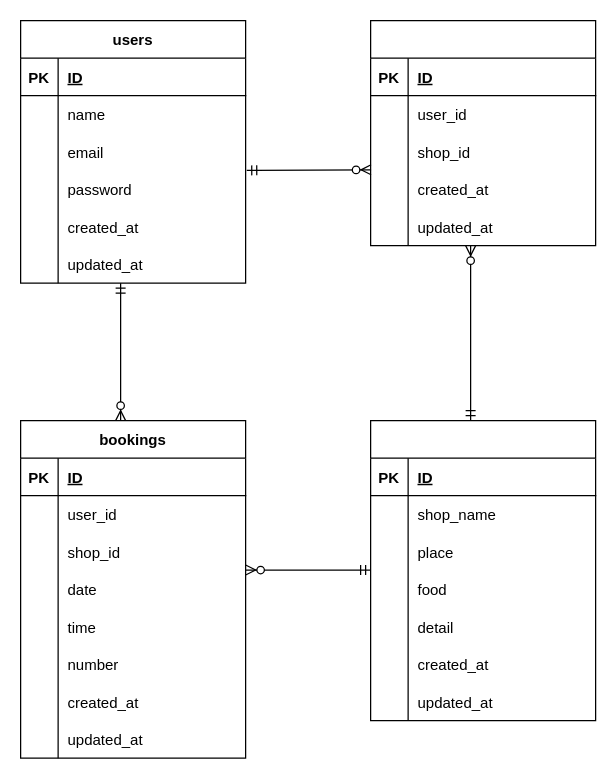
This 616x779 diagram has some shape labels left out. The box of each missing label's shape, as (x1, y1, x2, y2) in pixels:
likes: (369, 19, 596, 246)
shops: (369, 419, 596, 721)
